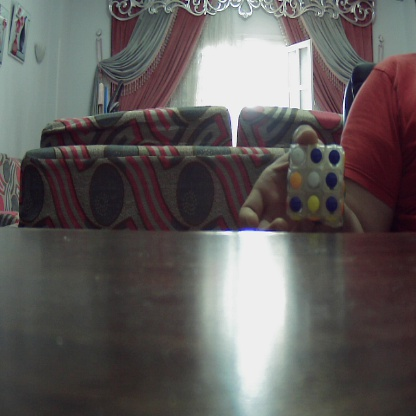Rubix Cube: (288, 144, 344, 219)
